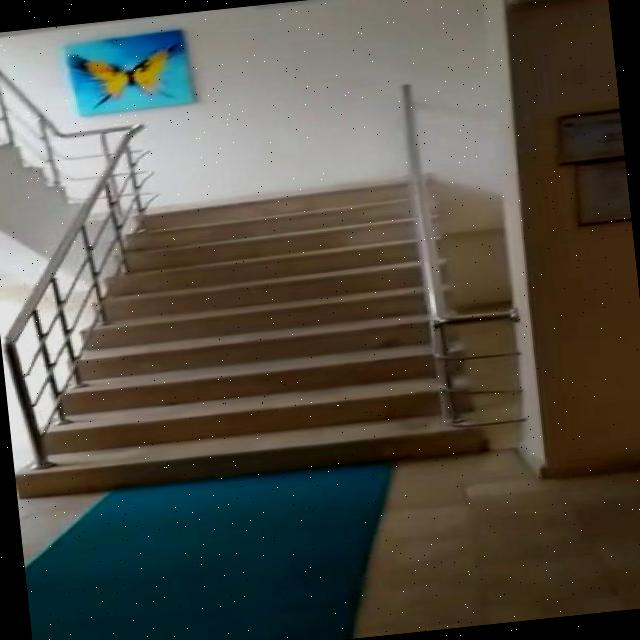stairs: (0, 166, 505, 500)
